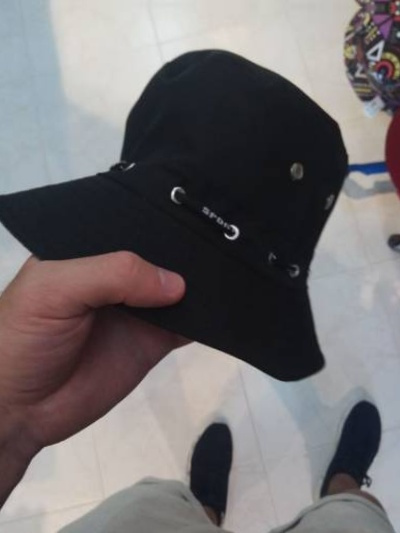Hat: (2, 33, 351, 401)
